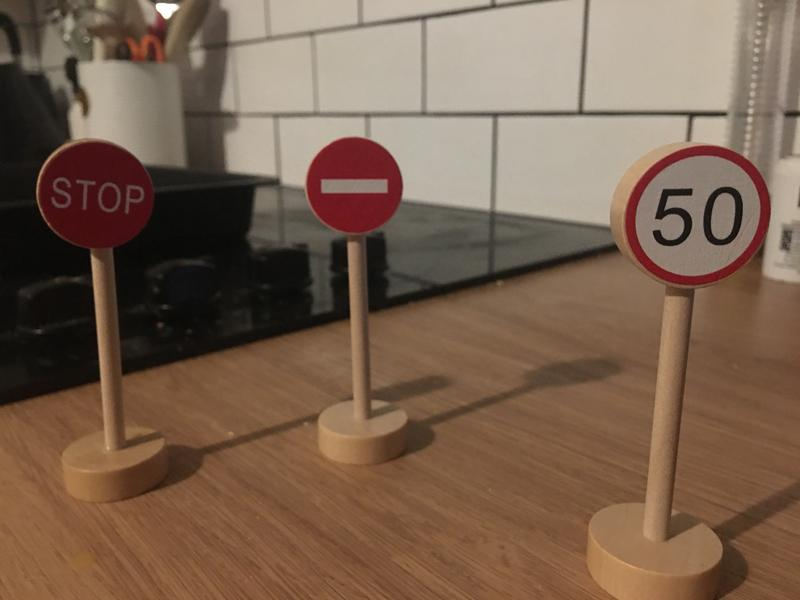Traffic_Sign_50: (622, 148, 770, 288)
Traffic_Sign_No_Entry: (306, 140, 400, 233)
Traffic_Sign_Stop: (36, 145, 154, 248)
